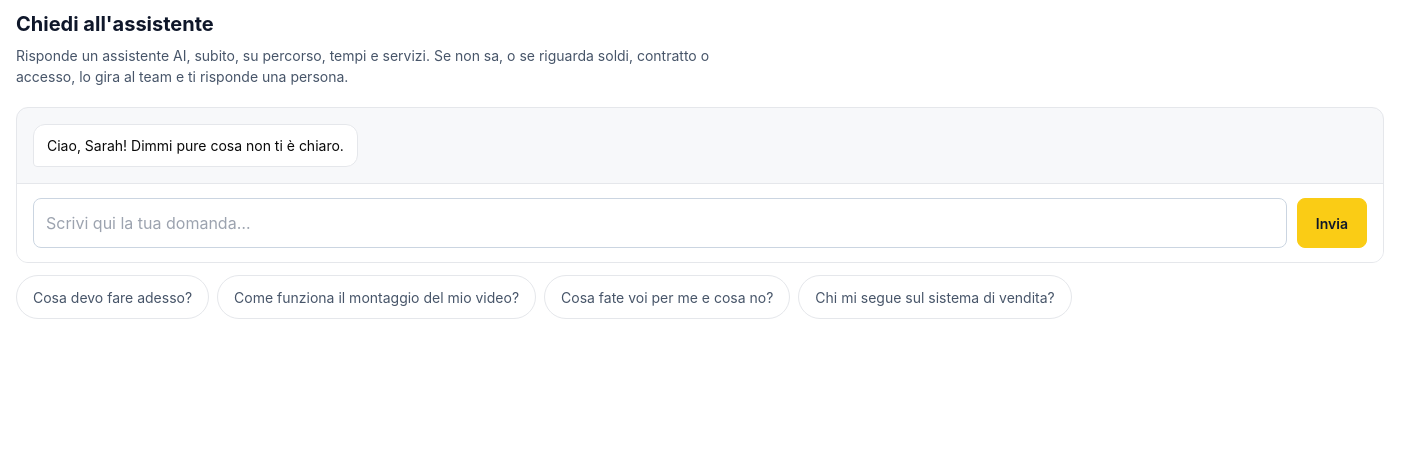
Test case: se non risponde non inventa: Riprova e mail del team
Type "Quando arriva il montaggio?" into the field labelled "la tua domanda" at (660, 223), box [33,198,1287,248]
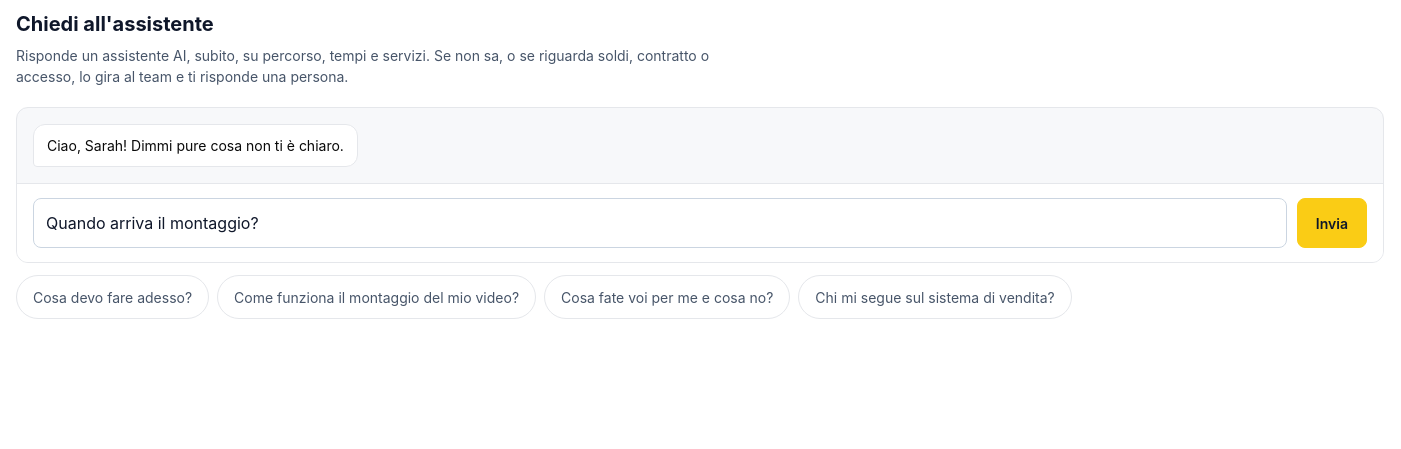
Click the button "Invia" at (1332, 223), box [1297,198,1367,248]
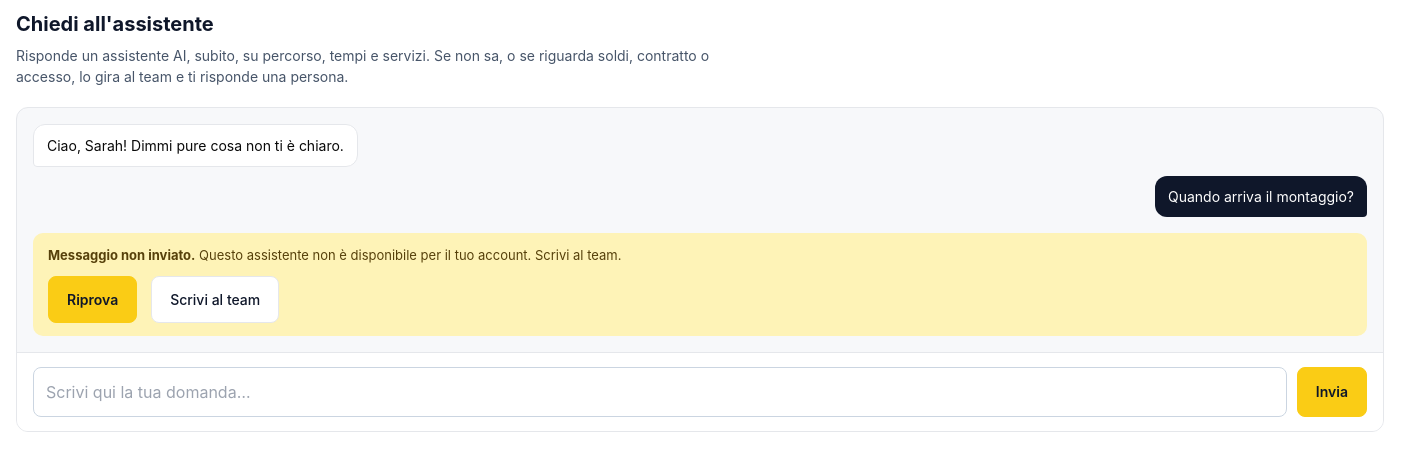
Check: the message shows "non è disponibile per il tuo account", box [199,247,621,263]
Check: the button "Riprova" is shown, box [48,276,137,322]
